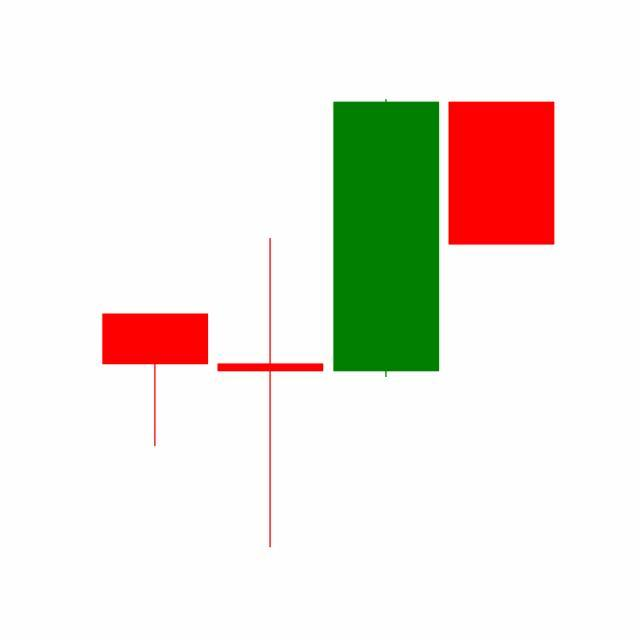Marubozu: (329, 97, 445, 381)
